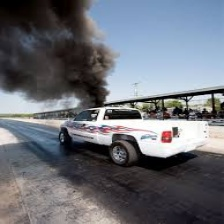smoke: (1, 1, 114, 105)
